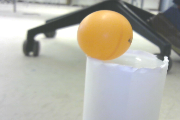PingPongBall: (78, 10, 133, 60)
